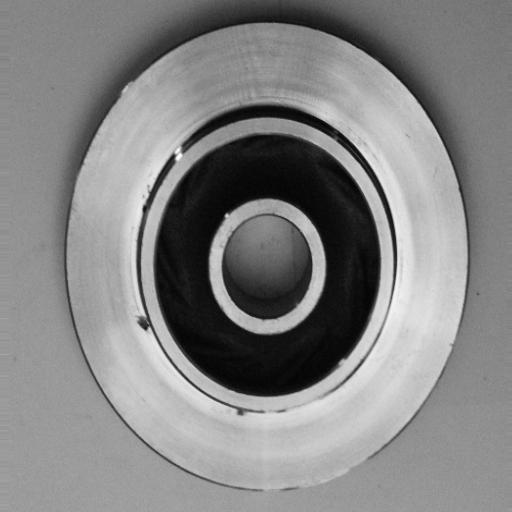crack: (227, 404, 295, 428), (128, 307, 156, 337)
scratch: (159, 131, 194, 187)
unpolished_casting: (60, 19, 471, 495)
